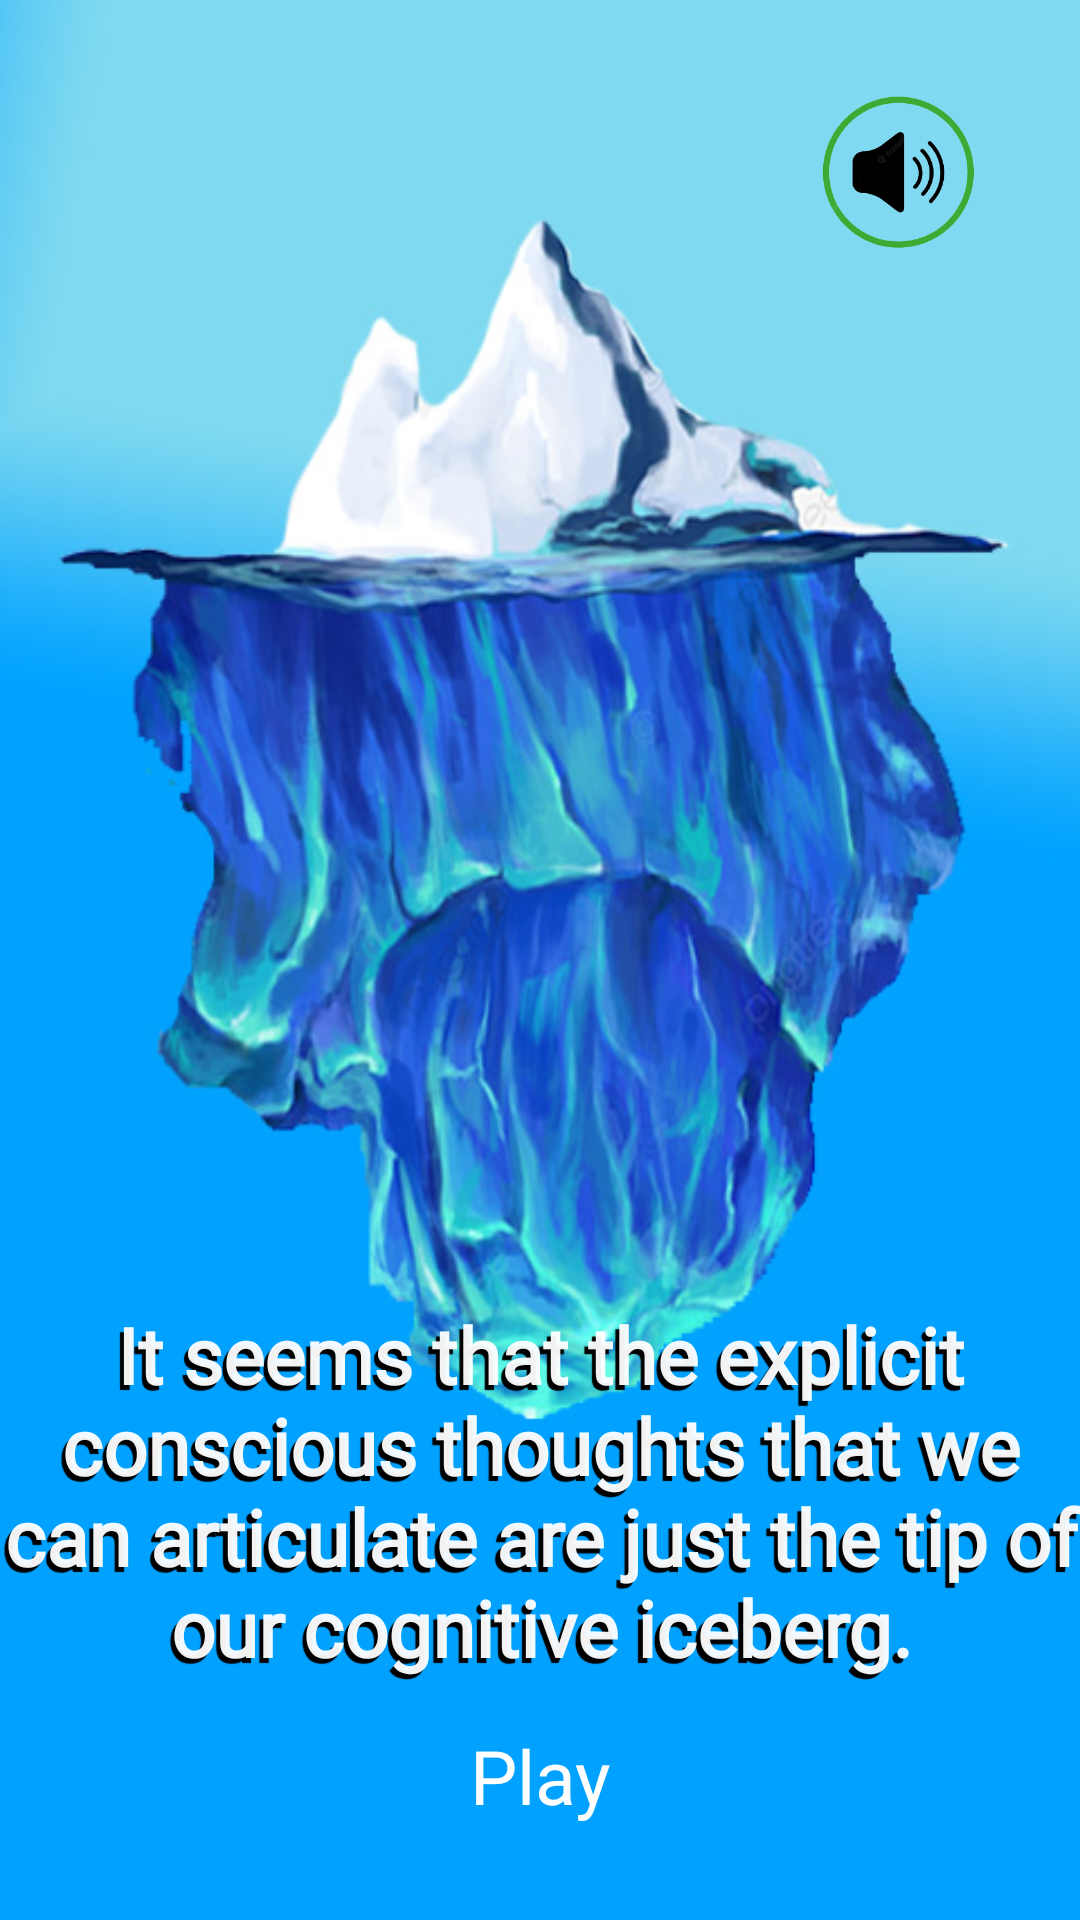

Named icons in this screenshot (1080px x 1920px) and their bounding boxes, (x1, y1, x2, y2):
sound on: (823, 96, 974, 248)
